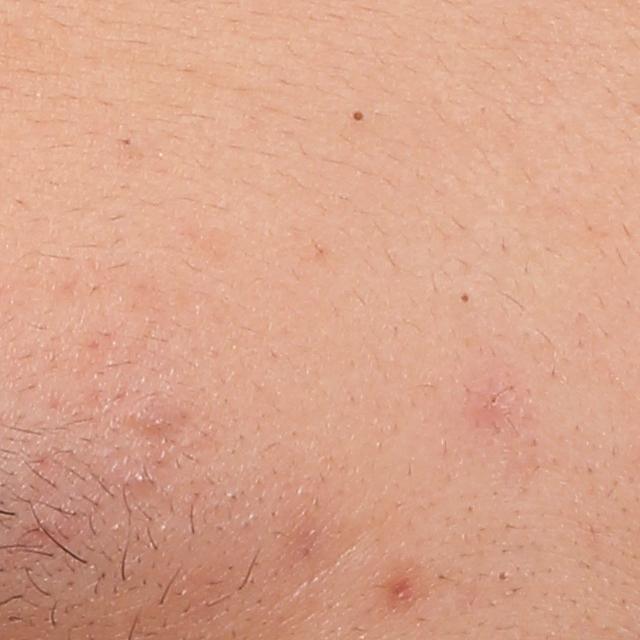comedo: (127, 466, 162, 493), (348, 104, 371, 125), (116, 133, 138, 154), (493, 566, 515, 586), (456, 288, 472, 309)
